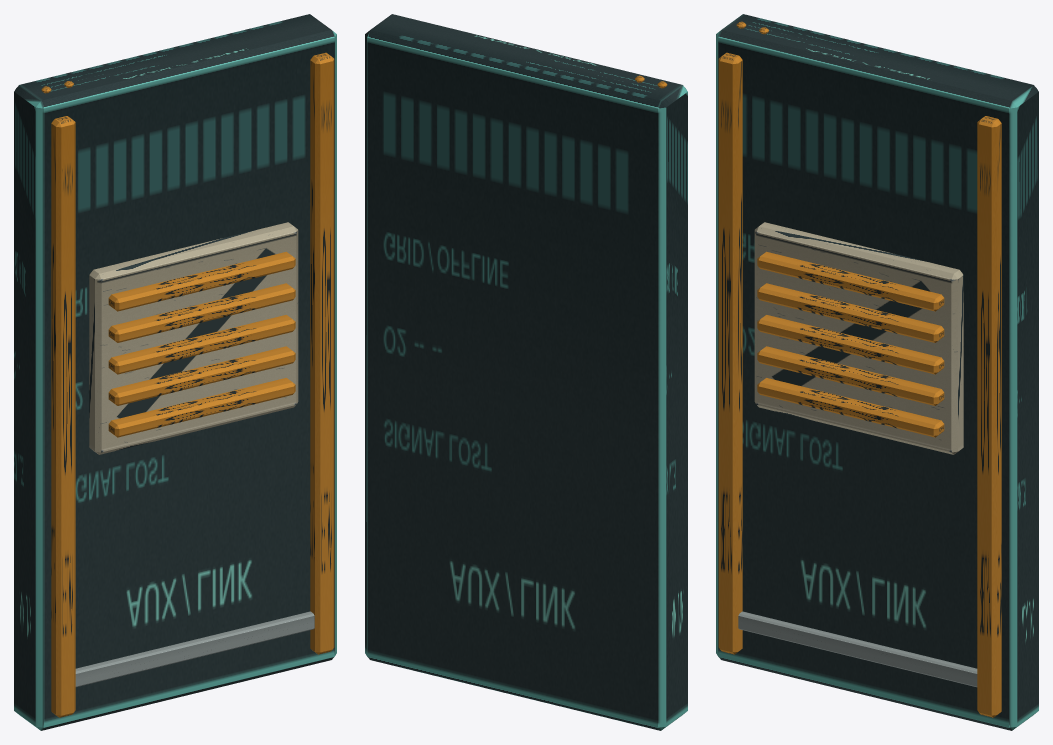
Rendered from wall_vent_2m_LOD0.obj.
3 views of the same model, side by side, from view 1: azimuth 30°, elevation 25°; view 2: azimuth 150°, elevation 25°; view 3: azimuth 330°, elevation 25° (orthographic).
Visible parts, largest first — view 1: L02_wall_vent_2m_LOD0; view 2: L02_wall_vent_2m_LOD0; view 3: L02_wall_vent_2m_LOD0.
Boxes of the visible parts, x1,y1,x2,y2 form: L02_wall_vent_2m_LOD0: (14,14,336,730); L02_wall_vent_2m_LOD0: (365,14,687,730); L02_wall_vent_2m_LOD0: (716,14,1038,730).
Bounding box in the file's own units: 2 × 4.03 × 0.52.
1 material, 1 textured.
